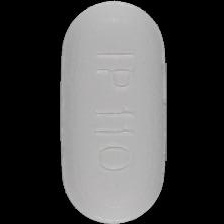21695-272: (0, 0, 224, 224)
